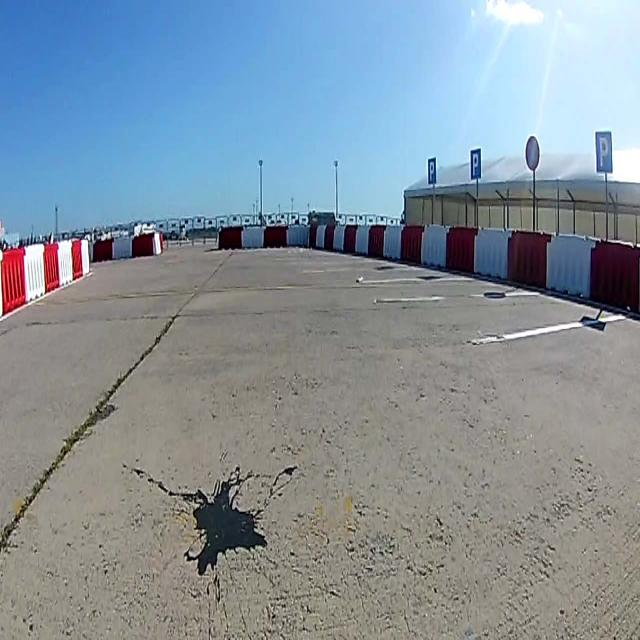park: (594, 127, 614, 173), (470, 148, 481, 180), (428, 157, 436, 184)
parkyasak: (525, 137, 540, 171)
